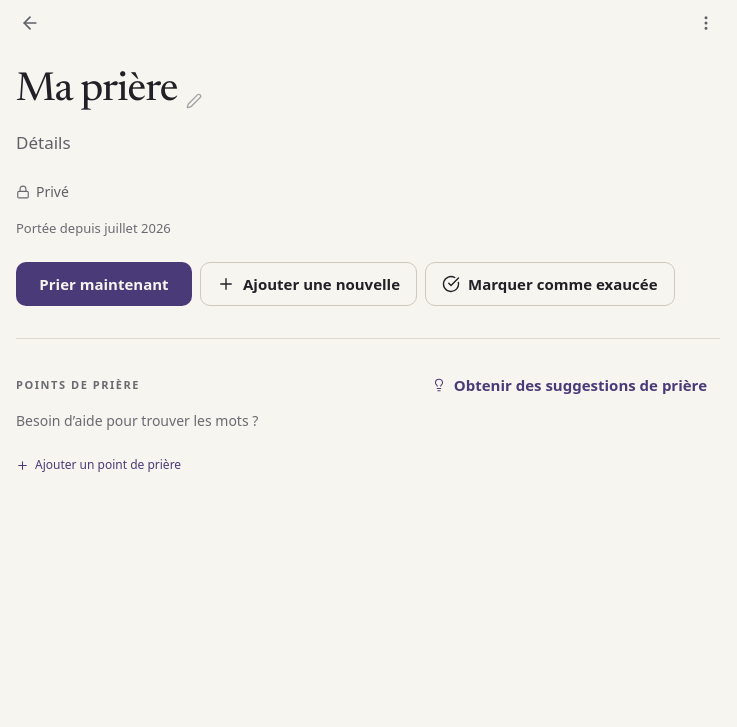
PrayerDetail — leads with prayer › offers Mark answered EXACTLY once — the disclosure it opens holds the confirm
Expected: the text "Marquer comme exaucée" is shown once, left=468, top=275, right=658, bottom=293
Expected: the text "Confirmer" is not shown
Click the button "Marquer comme exaucée" at (550, 284), box left=425, top=262, right=674, bottom=306
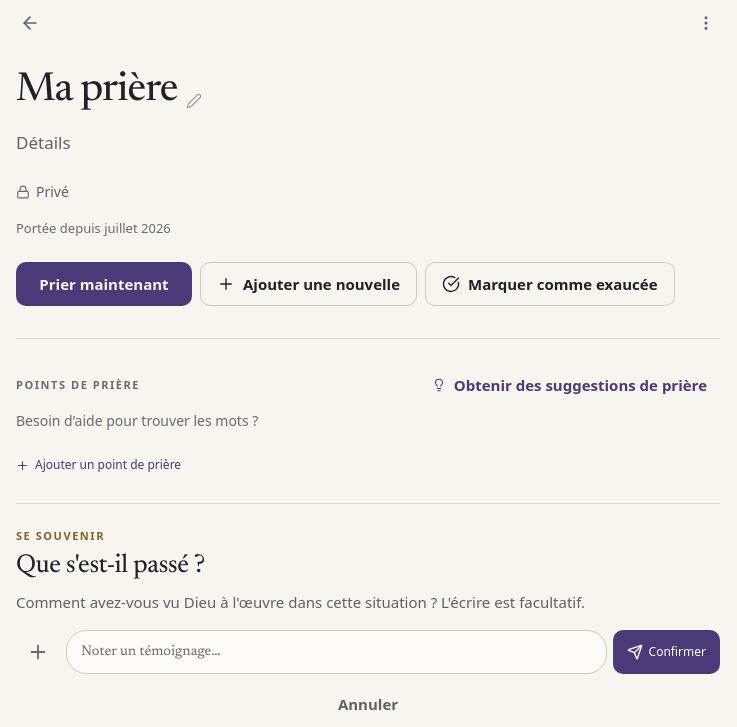
Expected: the text "Marquer comme exaucée" is shown once, left=468, top=275, right=658, bottom=293
Expected: the button "Confirmer" is shown, left=613, top=630, right=720, bottom=674
